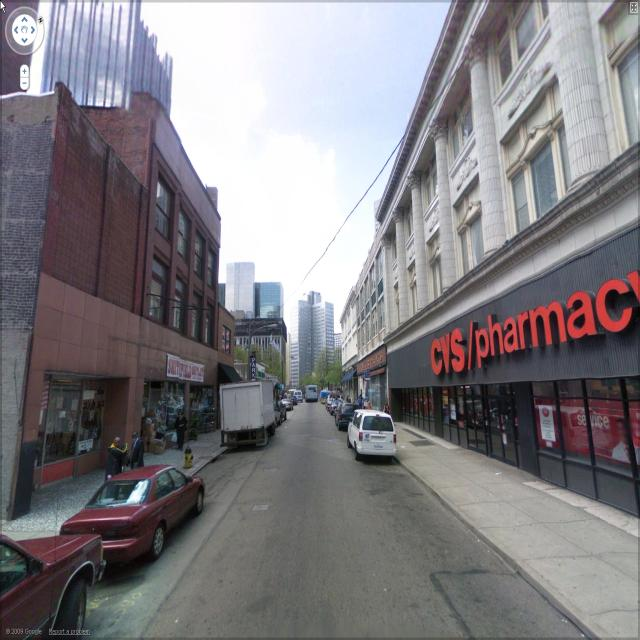b_1: (393, 10, 637, 411), (6, 104, 148, 380), (144, 124, 220, 351), (48, 3, 182, 122), (288, 294, 342, 402), (358, 248, 390, 428), (210, 274, 284, 325), (339, 284, 361, 404), (227, 258, 260, 317)
b_2: (292, 291, 346, 391), (228, 333, 288, 398), (303, 344, 349, 407)
